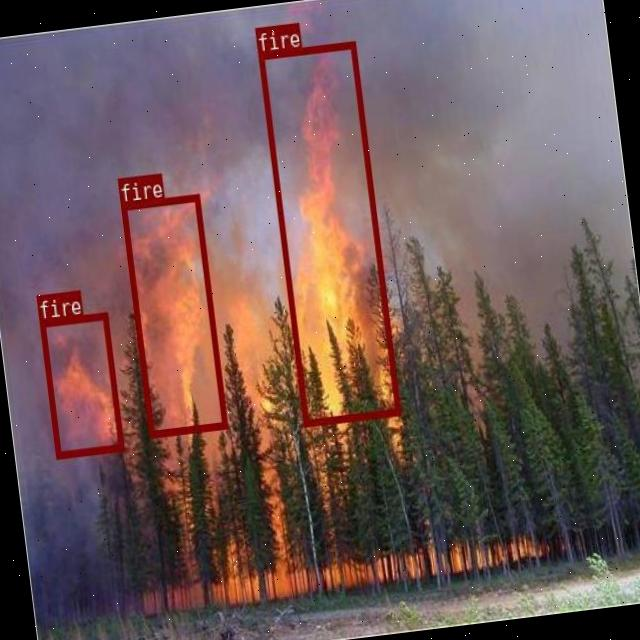fire: (258, 40, 400, 426), (120, 192, 226, 437), (38, 312, 123, 458)
